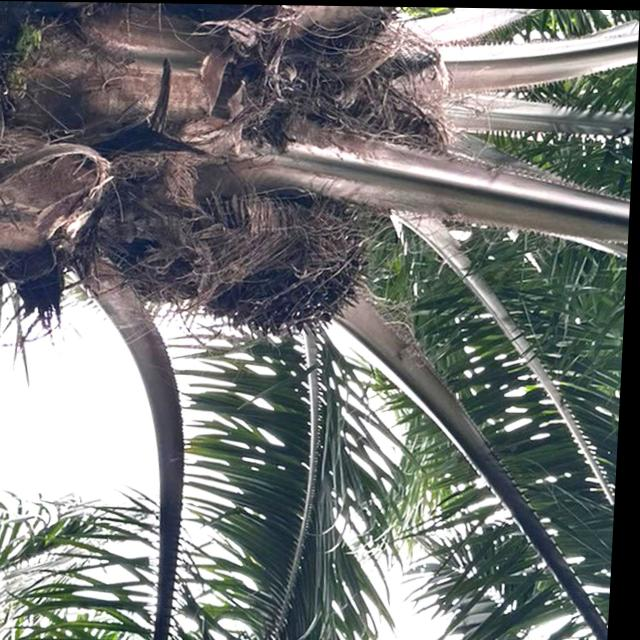almost: (189, 210, 374, 342)
